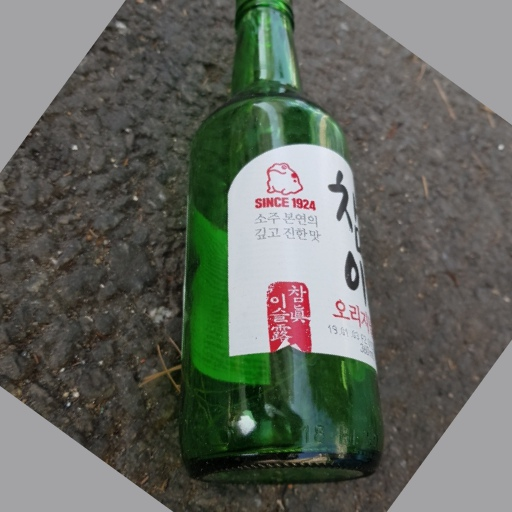Glass_0: (179, 1, 387, 482)
